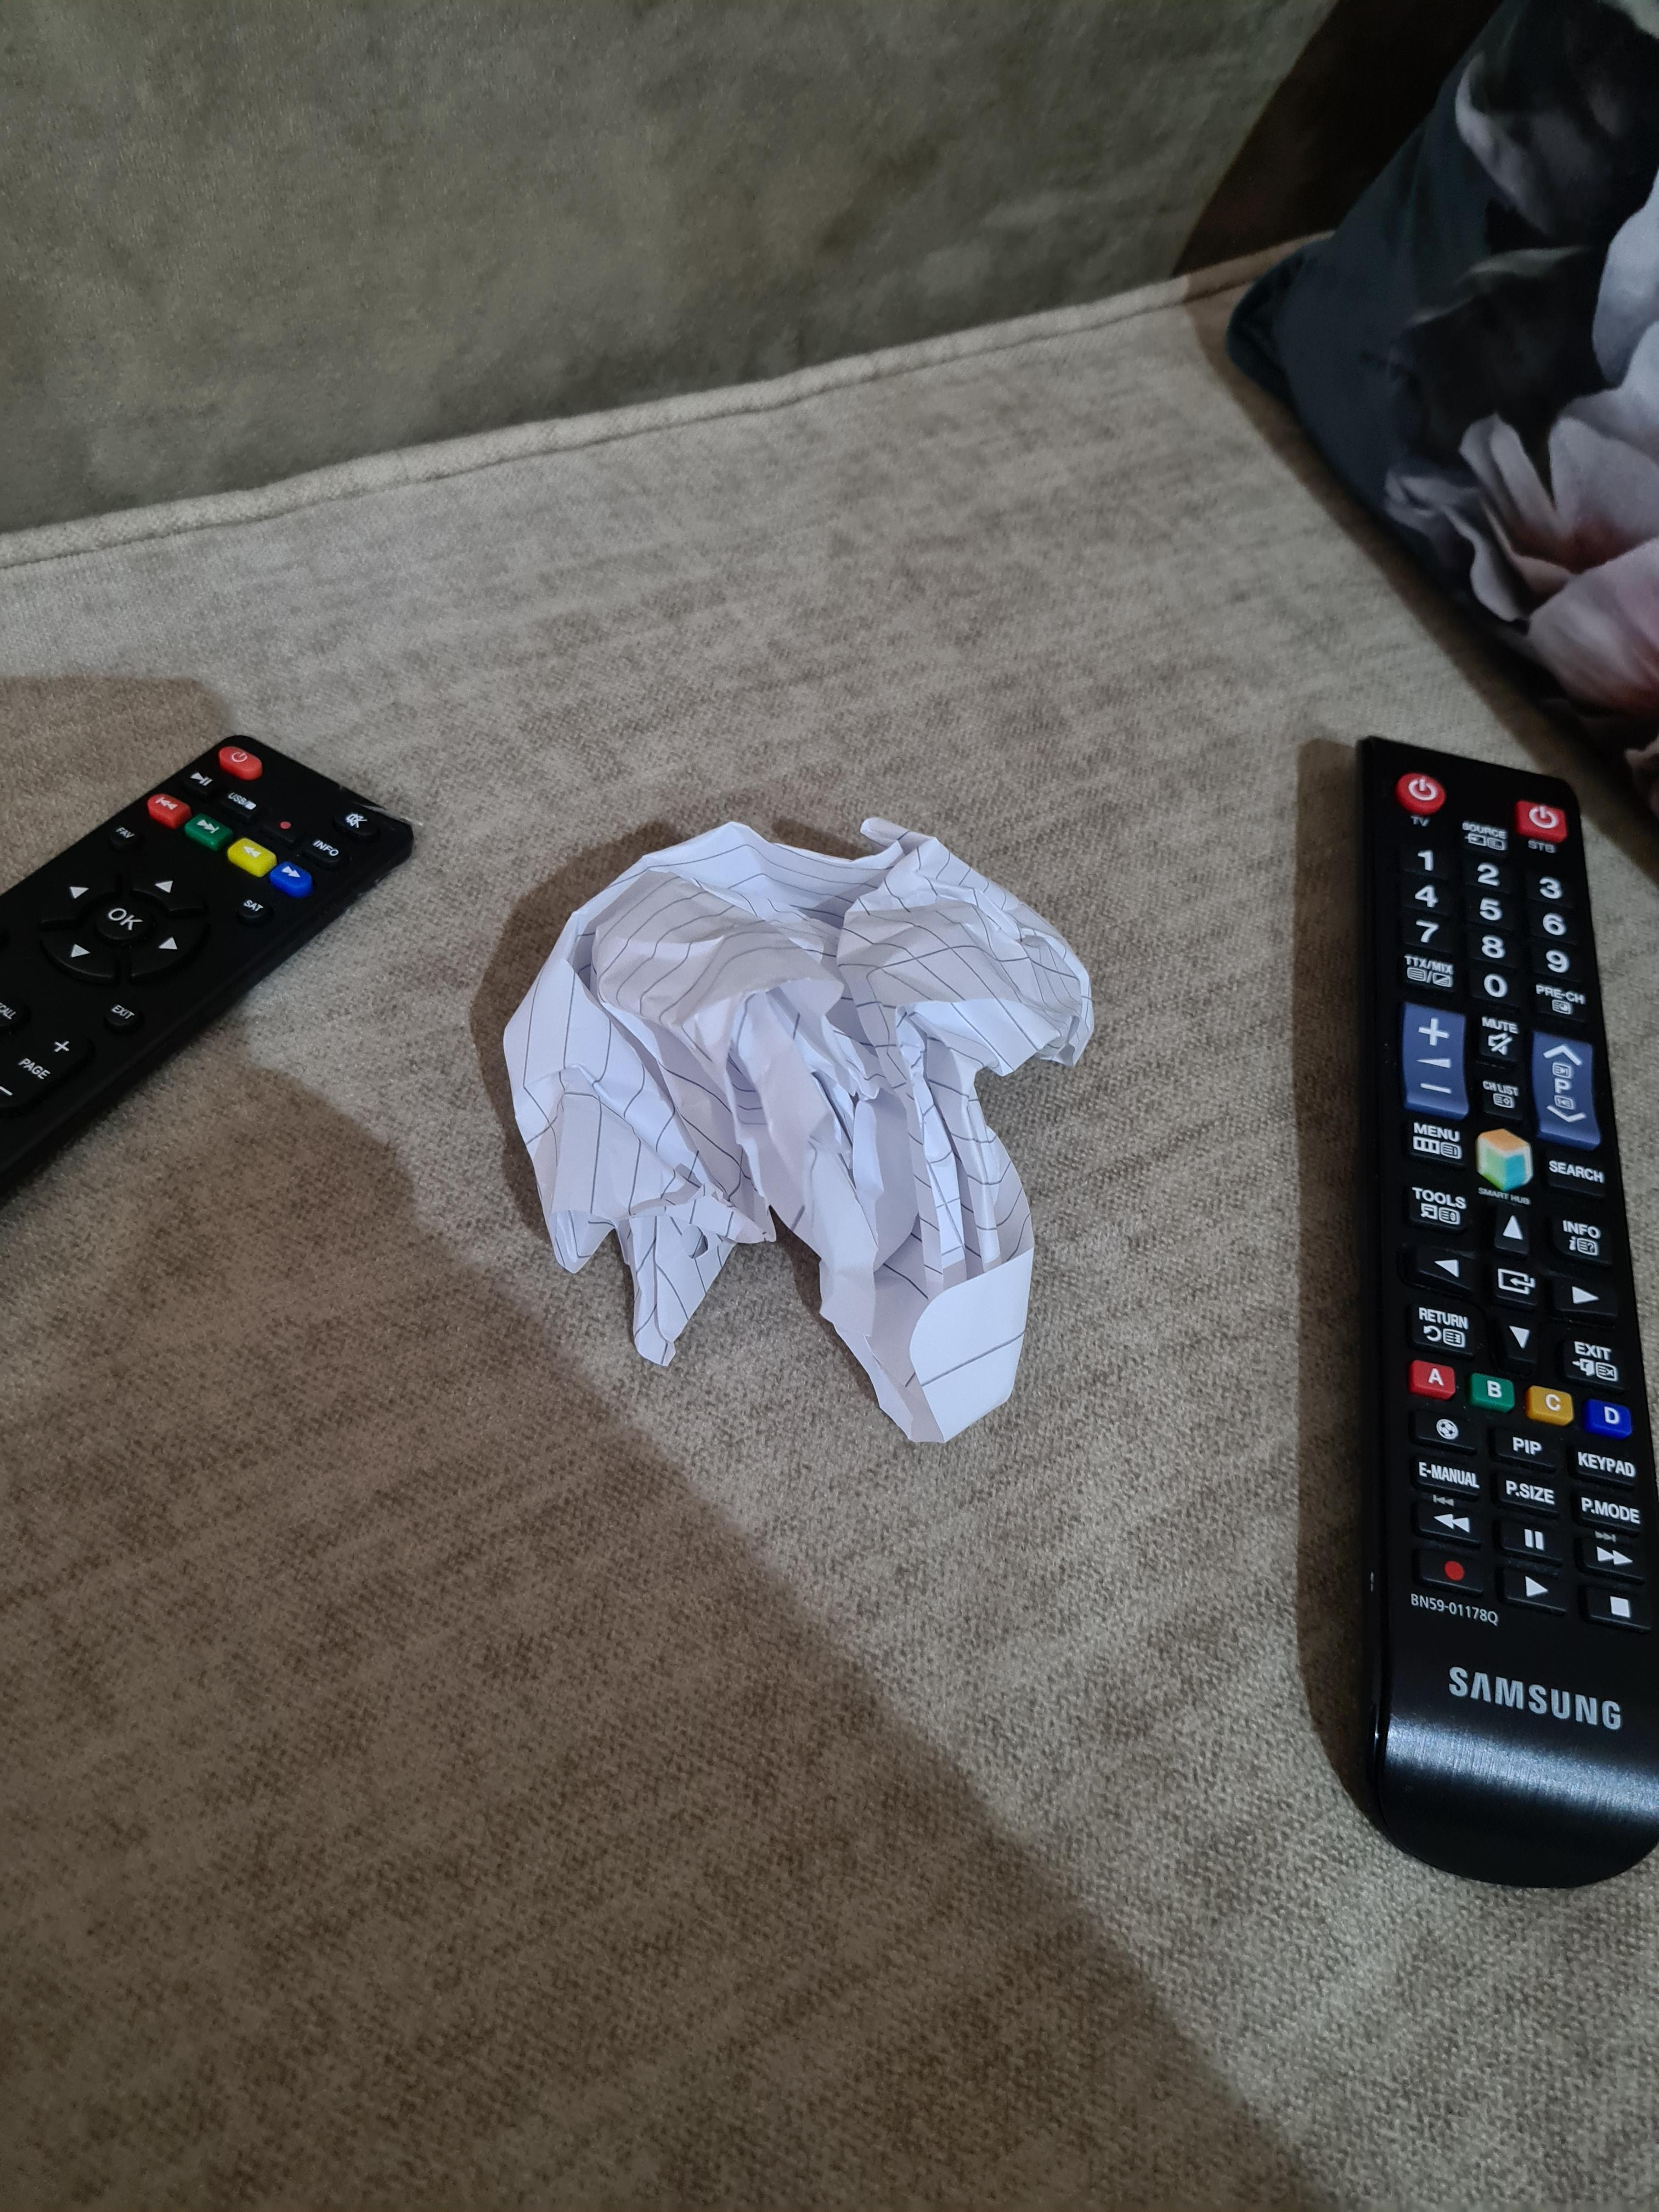Paper: (500, 797, 1127, 1444)
